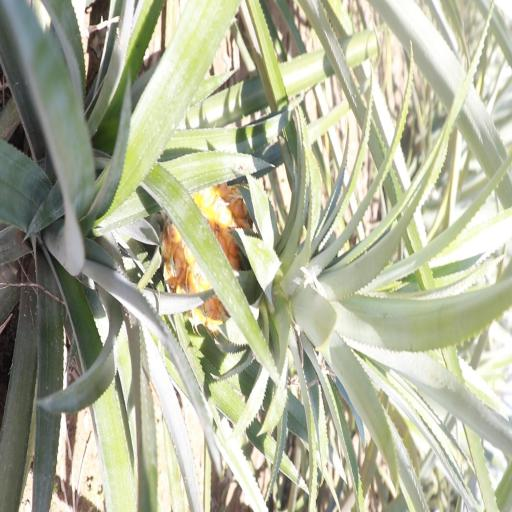Pineapple - v8 v1: (164, 182, 377, 358)
